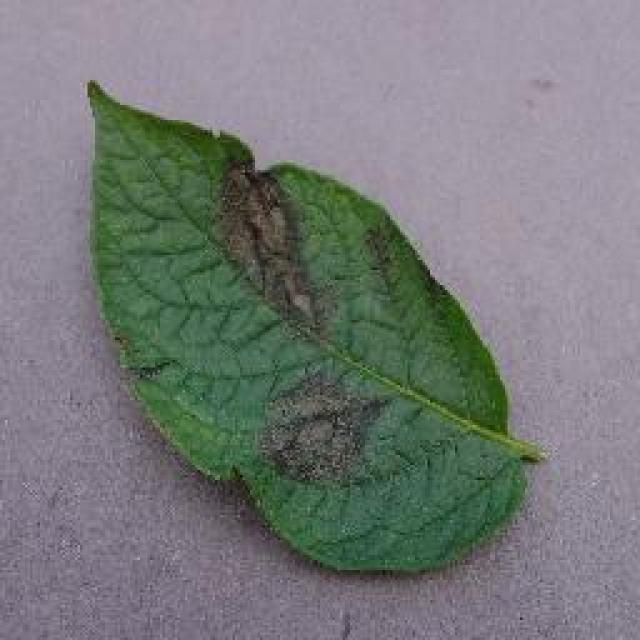late_blight: (80, 75, 542, 577)
